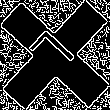L_SE: (26, 27, 84, 83)
